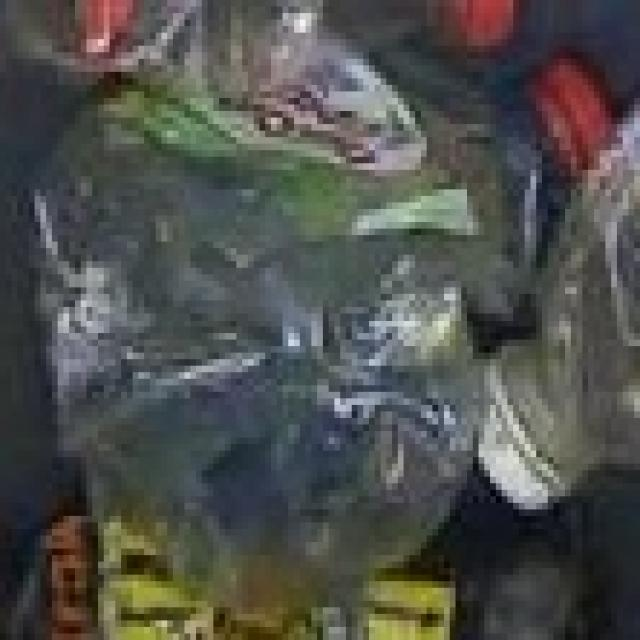litter: (465, 85, 640, 528)
